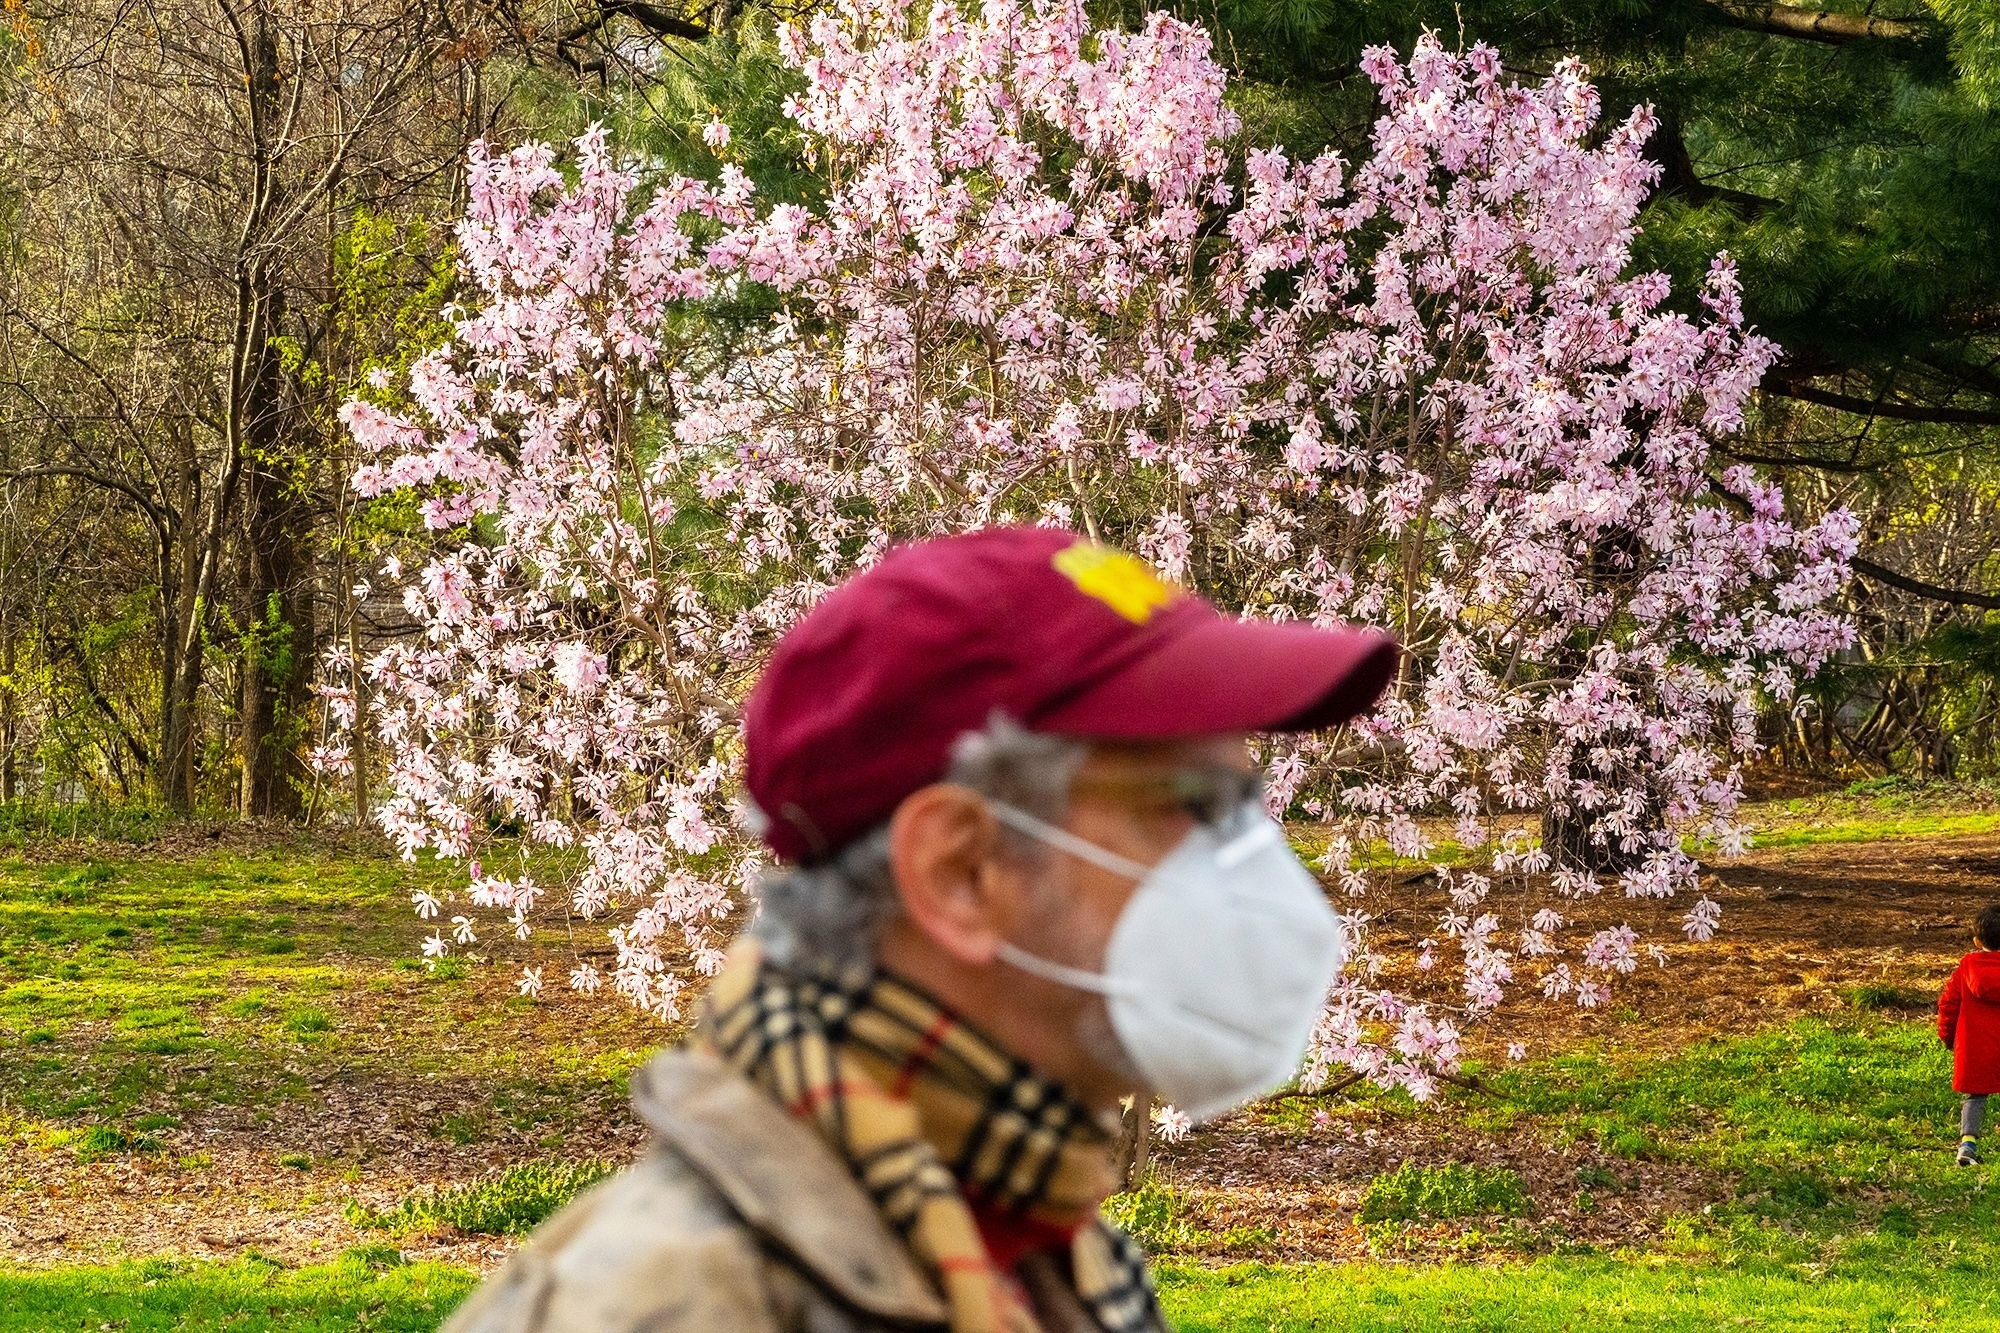face_with_mask: (734, 523, 1397, 1129), (845, 497, 1374, 1158)
